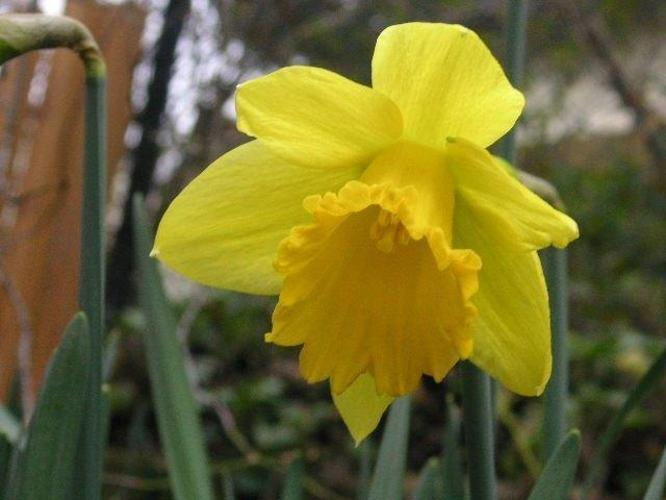flower1: (147, 20, 579, 447)
